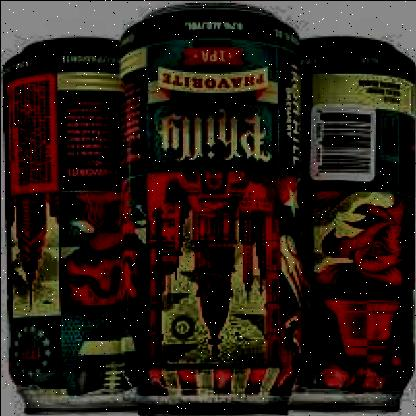Can: (115, 0, 307, 416), (274, 30, 416, 416), (0, 32, 140, 414)
